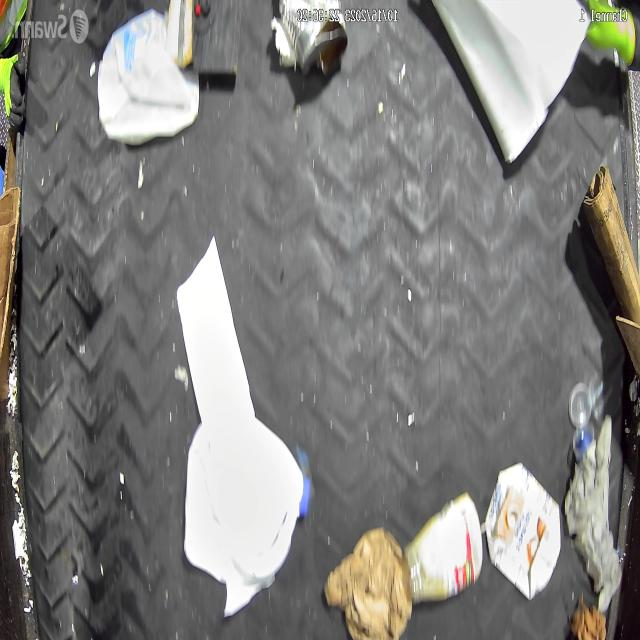can: (278, 0, 348, 78)
milk_jug: (180, 404, 314, 600), (94, 12, 198, 142)
non_white_jug: (485, 461, 561, 600)
